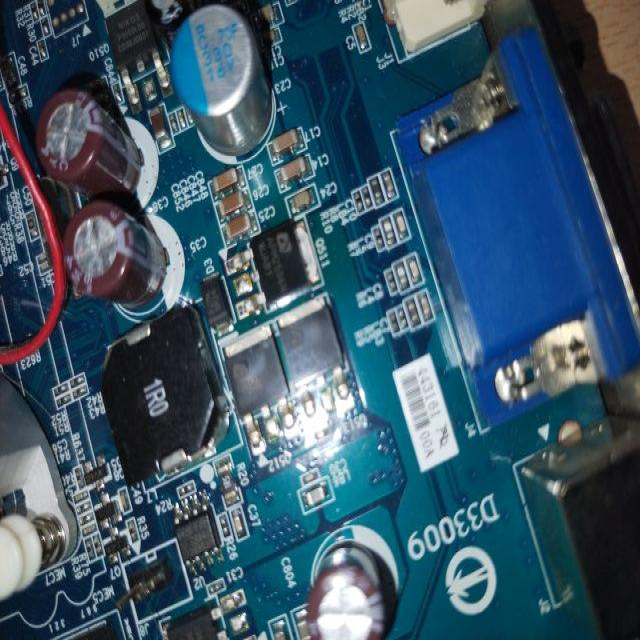capacitor: (272, 125, 306, 157), (274, 160, 312, 184), (222, 213, 257, 239), (291, 184, 314, 218), (205, 171, 242, 192), (214, 194, 244, 214), (417, 291, 437, 320), (231, 511, 248, 536), (395, 207, 407, 242), (408, 253, 419, 284)
resistor: (151, 100, 172, 154), (353, 22, 374, 54), (51, 392, 76, 408), (68, 368, 88, 388), (384, 271, 398, 296), (48, 381, 65, 400), (69, 386, 90, 400), (372, 228, 386, 249), (362, 179, 372, 208), (353, 187, 362, 219)
